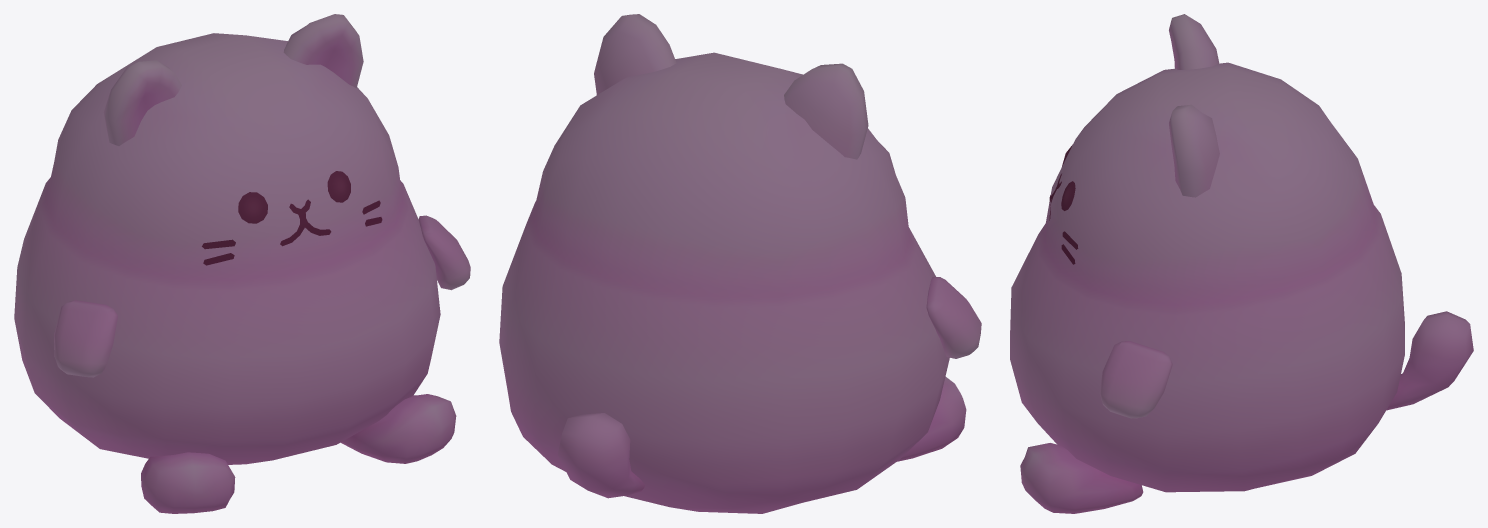
Rendered from cat.glb.
3 renders of one model, left to right at view 1: azimuth 30°, elevation 25°; view 2: azimuth 150°, elevation 25°; view 3: azimuth 270°, elevation 25°, orthographic. The views are drawn at different scales.
Visible parts, largest first — view 1: cat; view 2: cat; view 3: cat.
Boxes of the visible parts, x1,y1,x2,y2 form: cat: (14,14,470,513); cat: (499,14,981,513); cat: (1010,14,1473,513).
Bounding box in the file's own units: 0.5267 × 0.4895 × 0.5298.
Materials: 1 (1 with a texture image).
